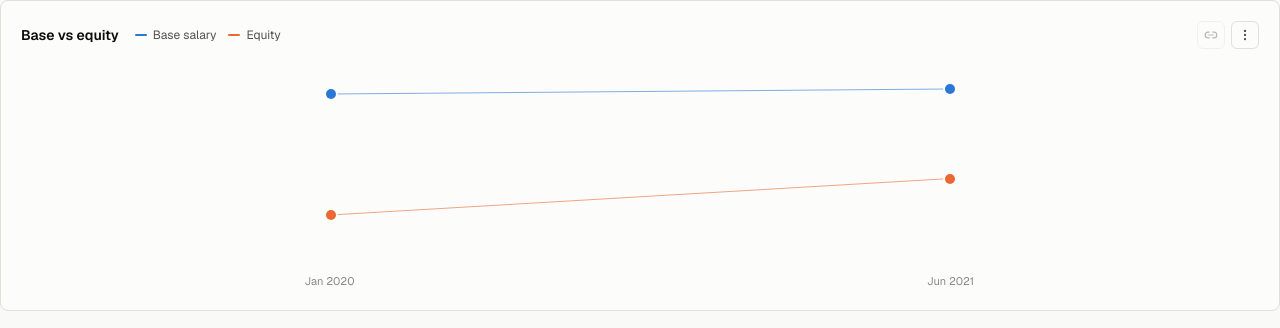
Test: BaseEquityChart › shows a tooltip with base and equity values on hover
The width and height of the screenshot is (1280, 328).
Expected: the text "Base: $110,000" is not shown
Hover over the button named "Role b base and equity for Jun 2021" at (950, 165), box [640,65,1259,265]
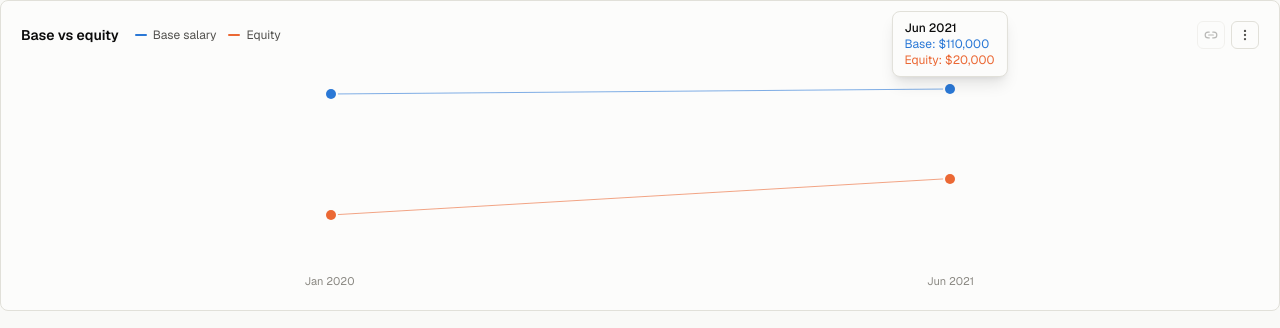
Now the text "Base: $110,000" is shown, box [904,36,994,52]
Now the text "Equity: $20,000" is shown, box [904,52,994,68]
Move the pointer off the button named "Role b base and equity for Jun 2021", box [640,65,1259,265]
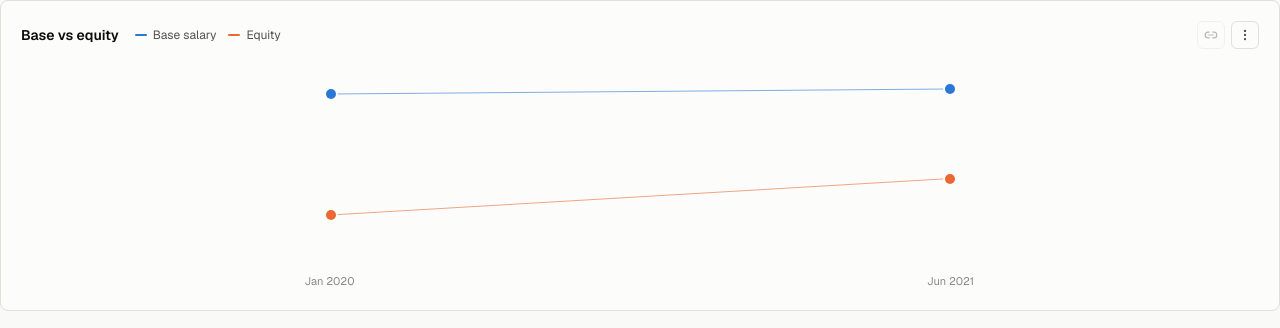
Now the text "Base: $110,000" is gone
